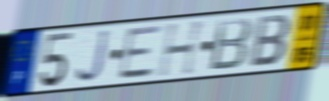5: (38, 29, 75, 89)
B: (207, 16, 254, 74), (248, 13, 293, 69)
E: (116, 23, 165, 82)
H: (156, 18, 209, 80)
J: (74, 27, 112, 85)
